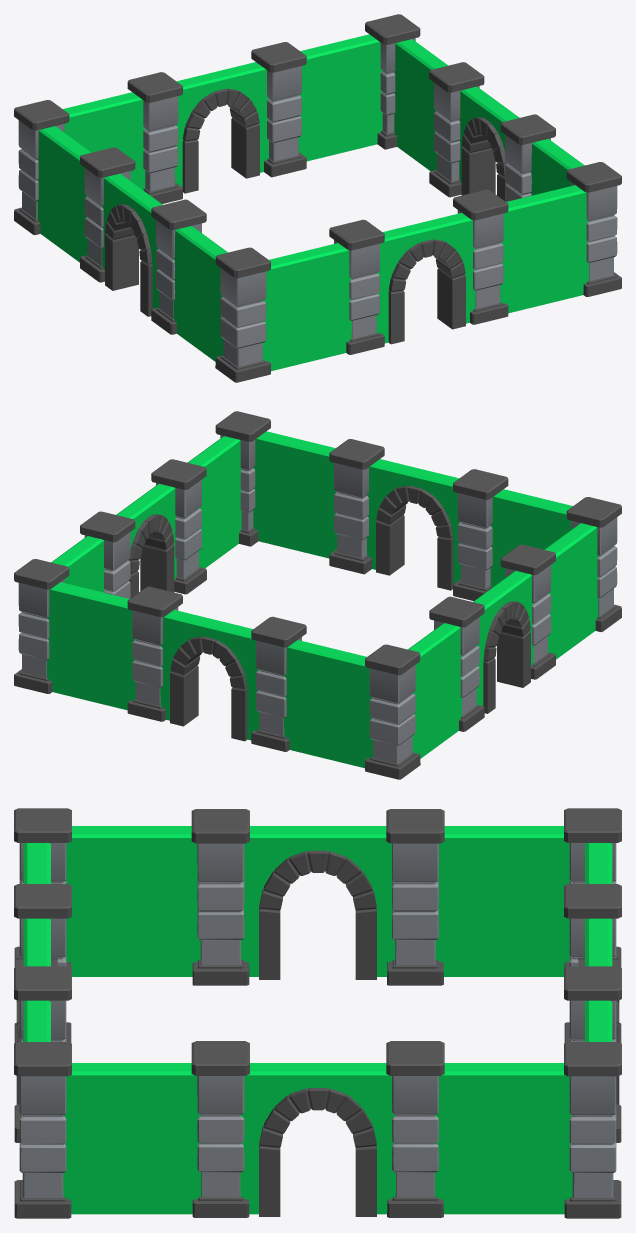
File: SafeRoom.fbx
The picture shows the model from 3 angles, top to bottom: view 1: azimuth 30°, elevation 25°; view 2: azimuth 150°, elevation 25°; view 3: azimuth 270°, elevation 25°; orthographic projection. The views are drawn at different scales.
Visible parts, largest first — view 1: Room; view 2: Room; view 3: Room.
Boxes of the visible parts, left/top/right/bottom form: Room: left=14, top=14, right=621, bottom=382; Room: left=14, top=411, right=621, bottom=779; Room: left=14, top=808, right=621, bottom=1218.
Size of the model in its own units: 1568 by 435 by 1562.
